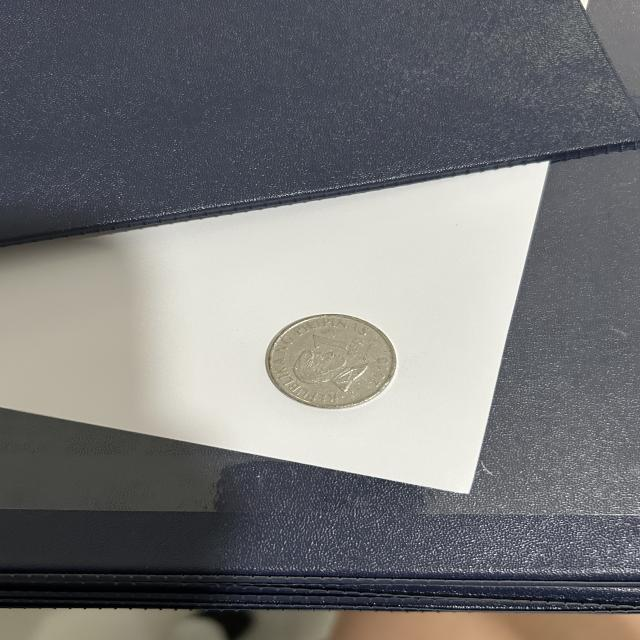1_Old_Front: (308, 330, 370, 362)
